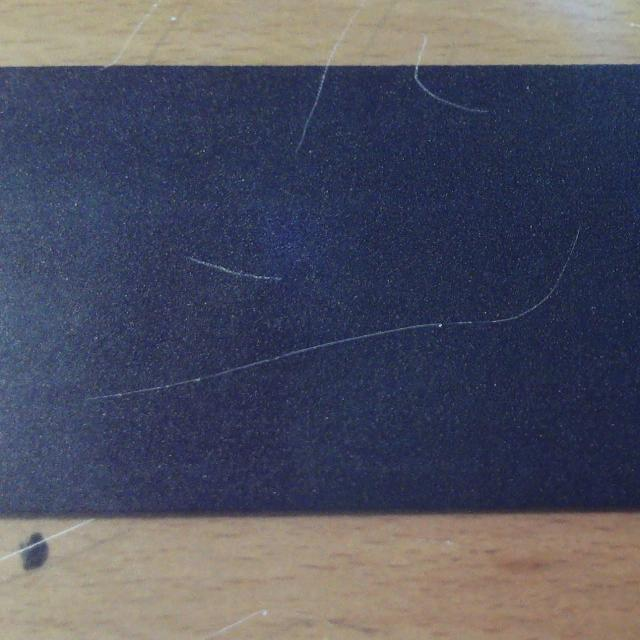defect: (83, 223, 586, 411), (411, 66, 491, 116), (299, 66, 329, 152), (193, 257, 281, 283)
